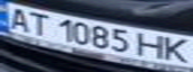0: (69, 19, 93, 46)
1: (51, 16, 75, 42)
5: (109, 26, 133, 55)
8: (90, 22, 112, 51)
A: (3, 4, 33, 33)
H: (139, 30, 169, 60)
K: (160, 35, 193, 65)
T: (24, 9, 54, 37)
